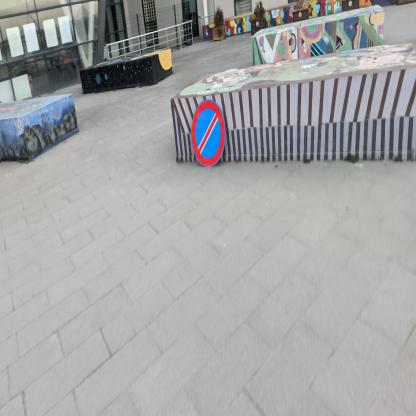No Waiting: (192, 101, 228, 168)
